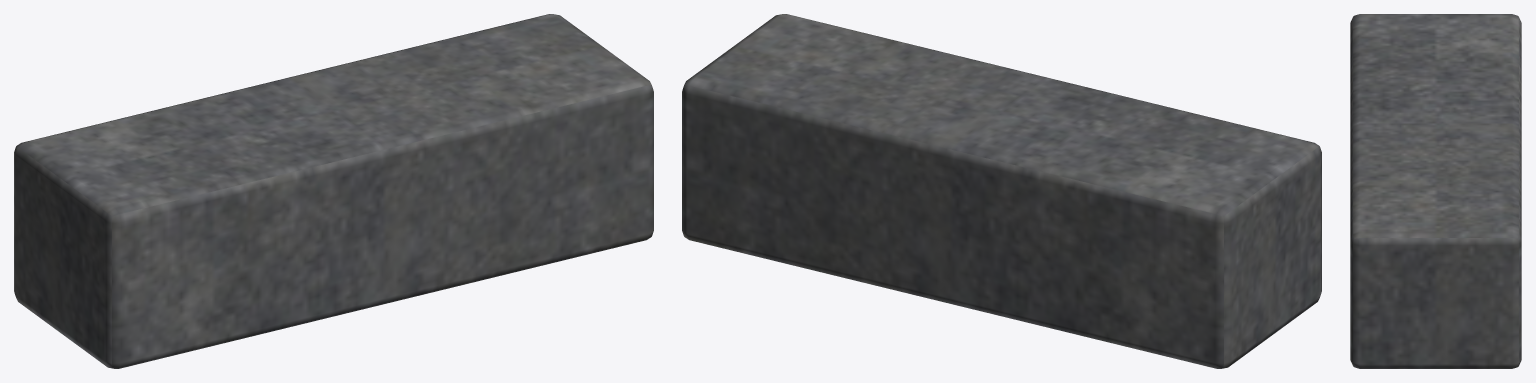
The model's file is bo_via_lod1.glb.
3 views of the same model, side by side, from view 1: azimuth 30°, elevation 25°; view 2: azimuth 150°, elevation 25°; view 3: azimuth 270°, elevation 25° (orthographic). The views are drawn at different scales.
Visible parts, largest first — view 1: bo_via.001; view 2: bo_via.001; view 3: bo_via.001.
Boxes of the visible parts, box(x1,y1,x2,y2) form: bo_via.001: box(14, 14, 653, 368); bo_via.001: box(682, 14, 1321, 368); bo_via.001: box(1350, 14, 1521, 368).
Bounding box in the file's own units: 1 × 0.28 × 0.32.
Materials: 1 (1 with a texture image).
